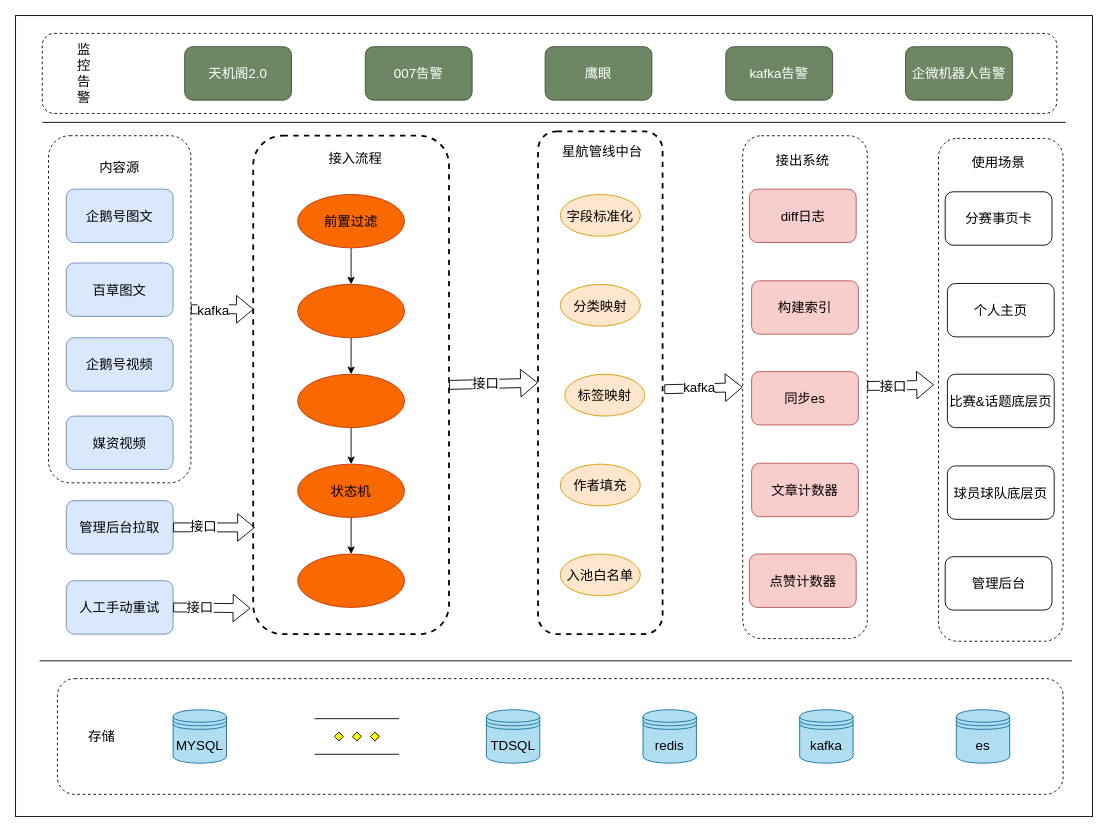
The diagram is 1108 pixels wide and 832 high, and some of its shapes have lost their labels. The shapes that lost their labels are listed below. From the top down, each one's centre as x and y in pixels, then its label:
the point at 351,310: 详情获取
the point at 351,400: 字段整合
the point at 351,580: 推送星航管线
the point at 356,736: 自研DelayQ
